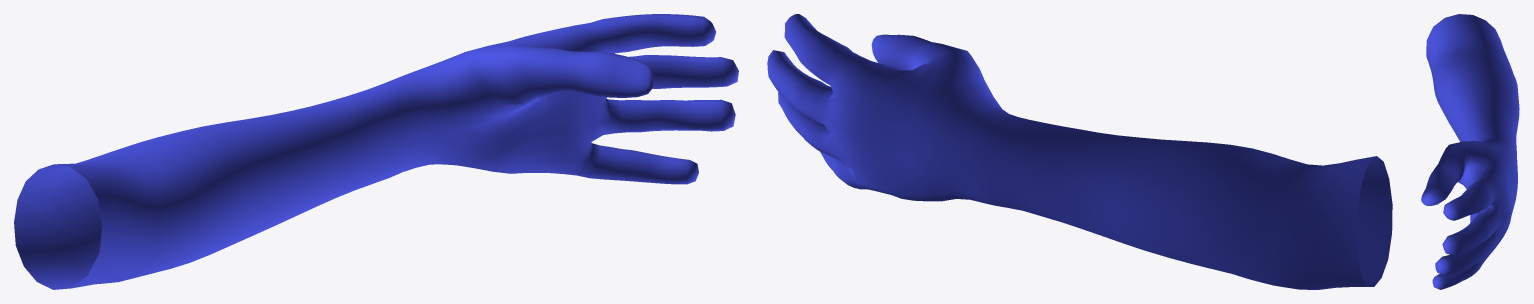
Rendered from DisembodiedHand.fbx.
3 renders of one model, left to right at view 1: azimuth 30°, elevation 25°; view 2: azimuth 150°, elevation 25°; view 3: azimuth 270°, elevation 25°, orthographic. The views are drawn at different scales.
Visible parts, largest first — view 1: Jimbo:humanBody; view 2: Jimbo:humanBody; view 3: Jimbo:humanBody.
Boxes of the visible parts, bbox=[...] form: Jimbo:humanBody: bbox=[14, 14, 738, 289]; Jimbo:humanBody: bbox=[767, 14, 1392, 289]; Jimbo:humanBody: bbox=[1421, 14, 1519, 289].
Bounding box in the file's own units: 1.12 × 0.256 × 0.2267.
